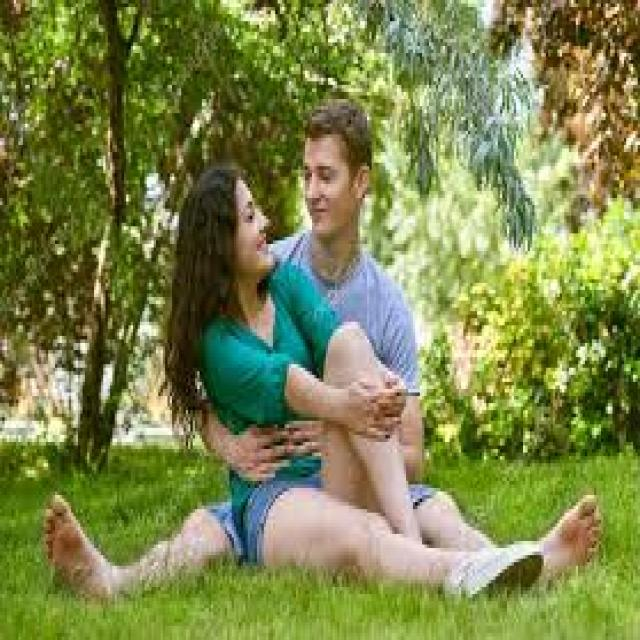nonfall: (174, 156, 482, 597), (277, 80, 423, 407)
